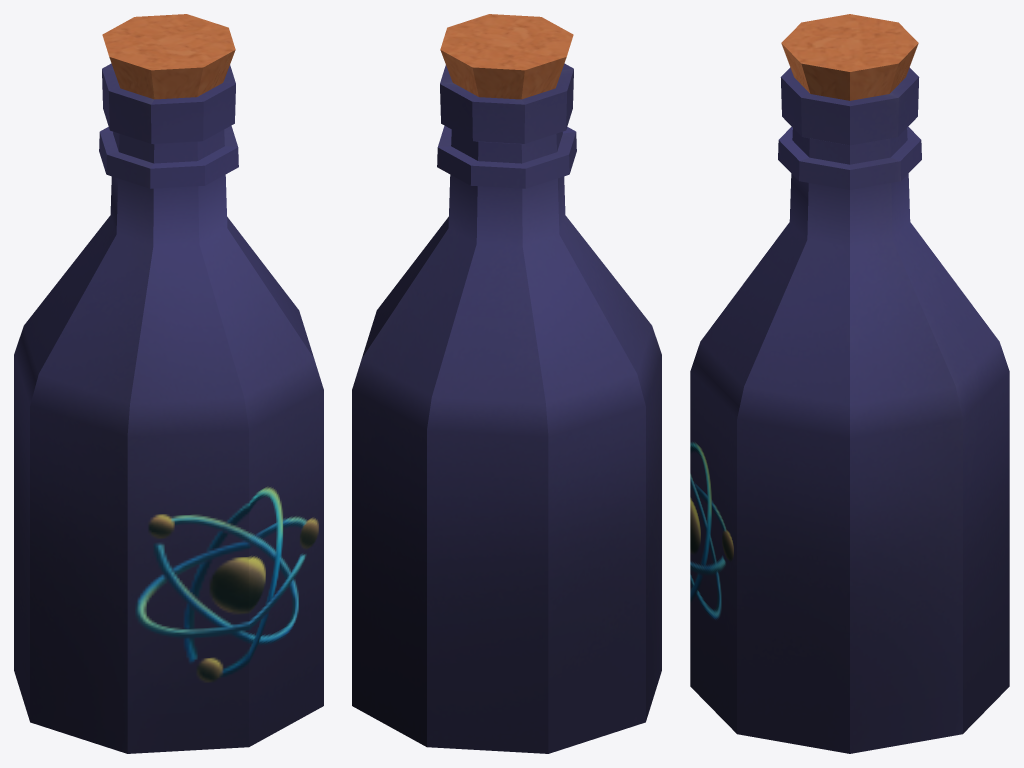
The model's file is Bottle_01_C1_001.fbx.
3 renders of one model, left to right at view 1: azimuth 30°, elevation 25°; view 2: azimuth 150°, elevation 25°; view 3: azimuth 270°, elevation 25°, orthographic.
Visible parts, largest first — view 1: Bottle_01_C1_001; view 2: Bottle_01_C1_001; view 3: Bottle_01_C1_001.
Part boxes in pixels (x1,y1,x2,y2): Bottle_01_C1_001: (14,14,323,753); Bottle_01_C1_001: (352,14,661,753); Bottle_01_C1_001: (690,14,1009,753).
Size of the model in its own units: 10.33 by 22.98 by 10.33.
